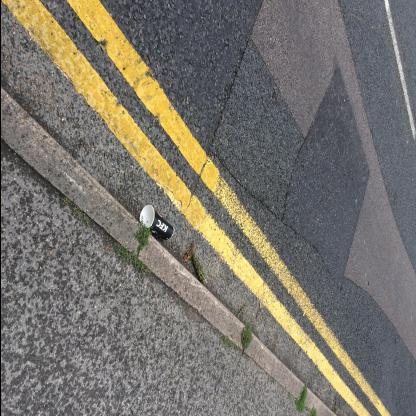karton: (139, 206, 175, 242)
